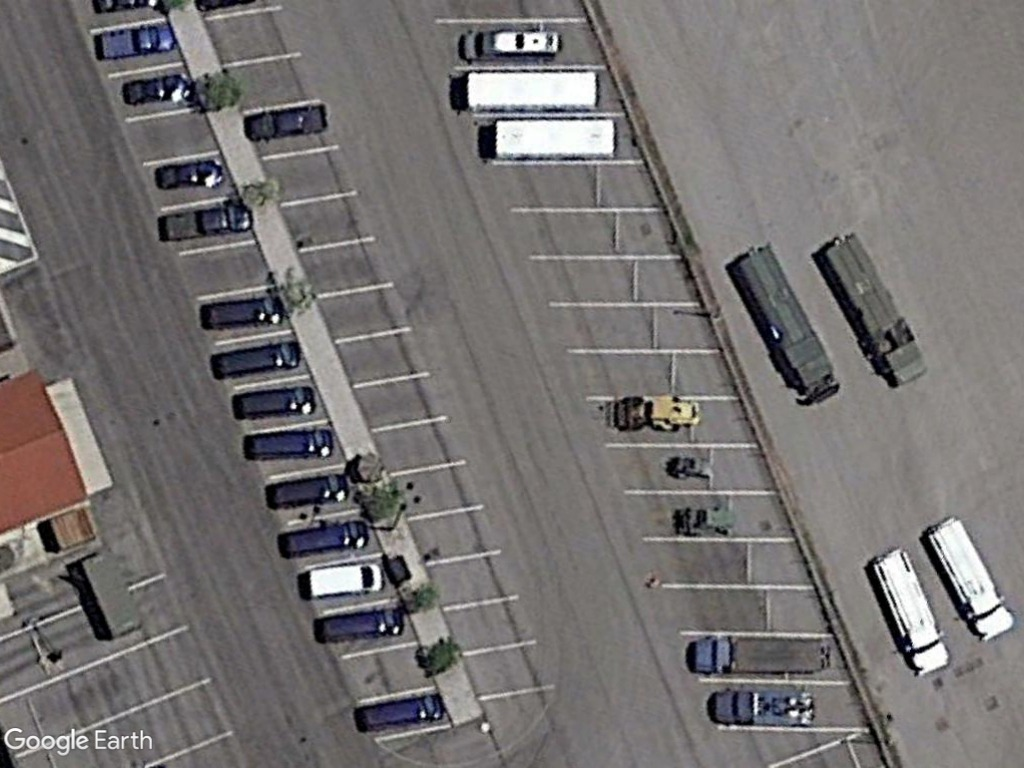longvehicle: (459, 68, 603, 115), (490, 114, 620, 162)
other: (456, 23, 566, 67), (159, 205, 254, 244), (239, 106, 336, 141), (89, 25, 179, 61)
truck: (813, 230, 937, 393), (723, 240, 844, 407), (859, 542, 955, 682), (923, 514, 1017, 643), (690, 629, 832, 678), (710, 683, 818, 729)
van: (353, 691, 448, 735), (208, 338, 305, 381), (194, 292, 291, 334), (264, 470, 351, 514), (314, 607, 409, 647), (233, 380, 321, 423), (276, 518, 372, 557), (240, 427, 334, 463), (302, 563, 388, 598)
